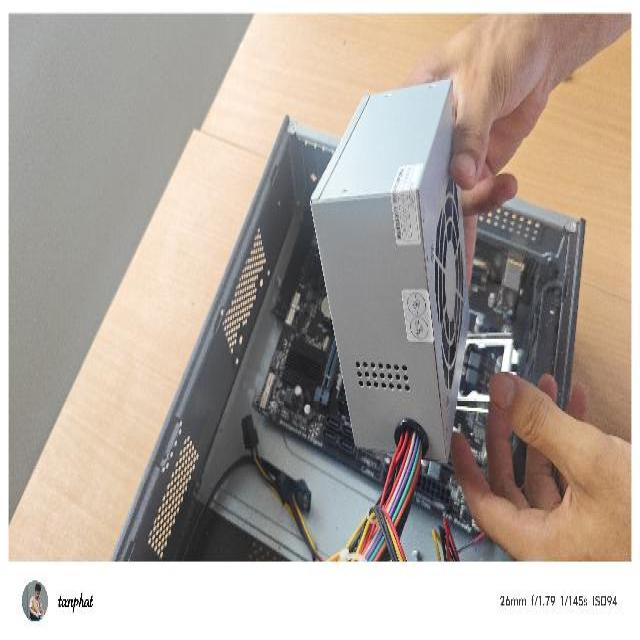PSU: (308, 73, 475, 470)
